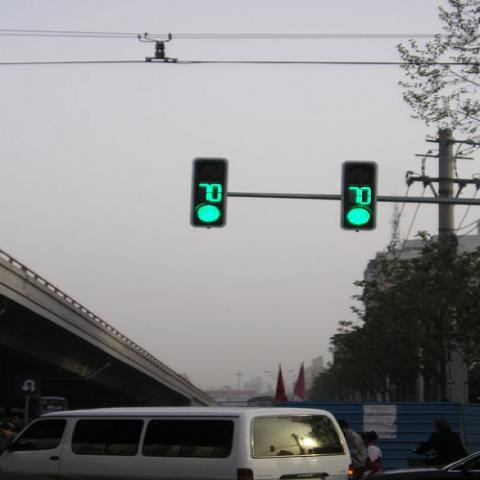car: (357, 450, 479, 479), (0, 393, 71, 423)
